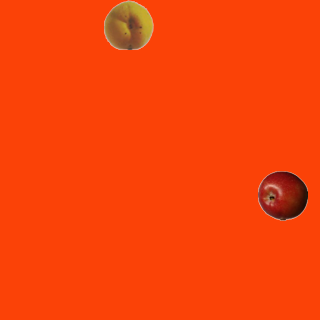Apple Braeburn: (257, 170, 307, 220)
Peach 2: (103, 0, 153, 49)
